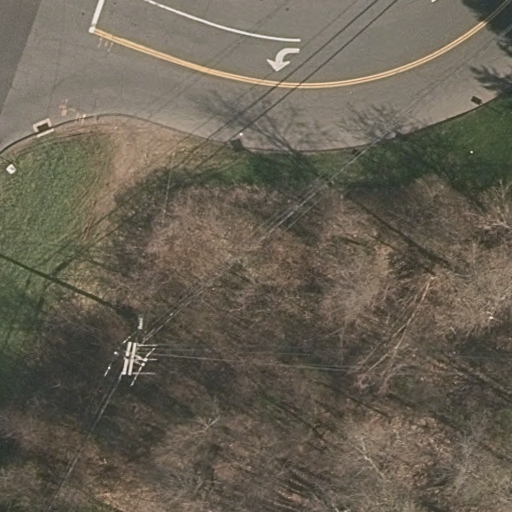DT: (104, 306, 164, 391)
